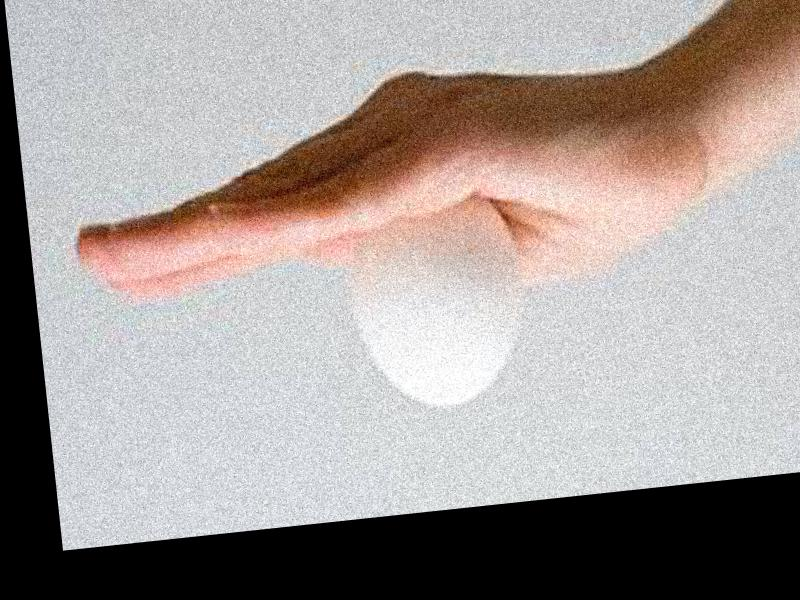Eggs: (342, 192, 523, 413)
